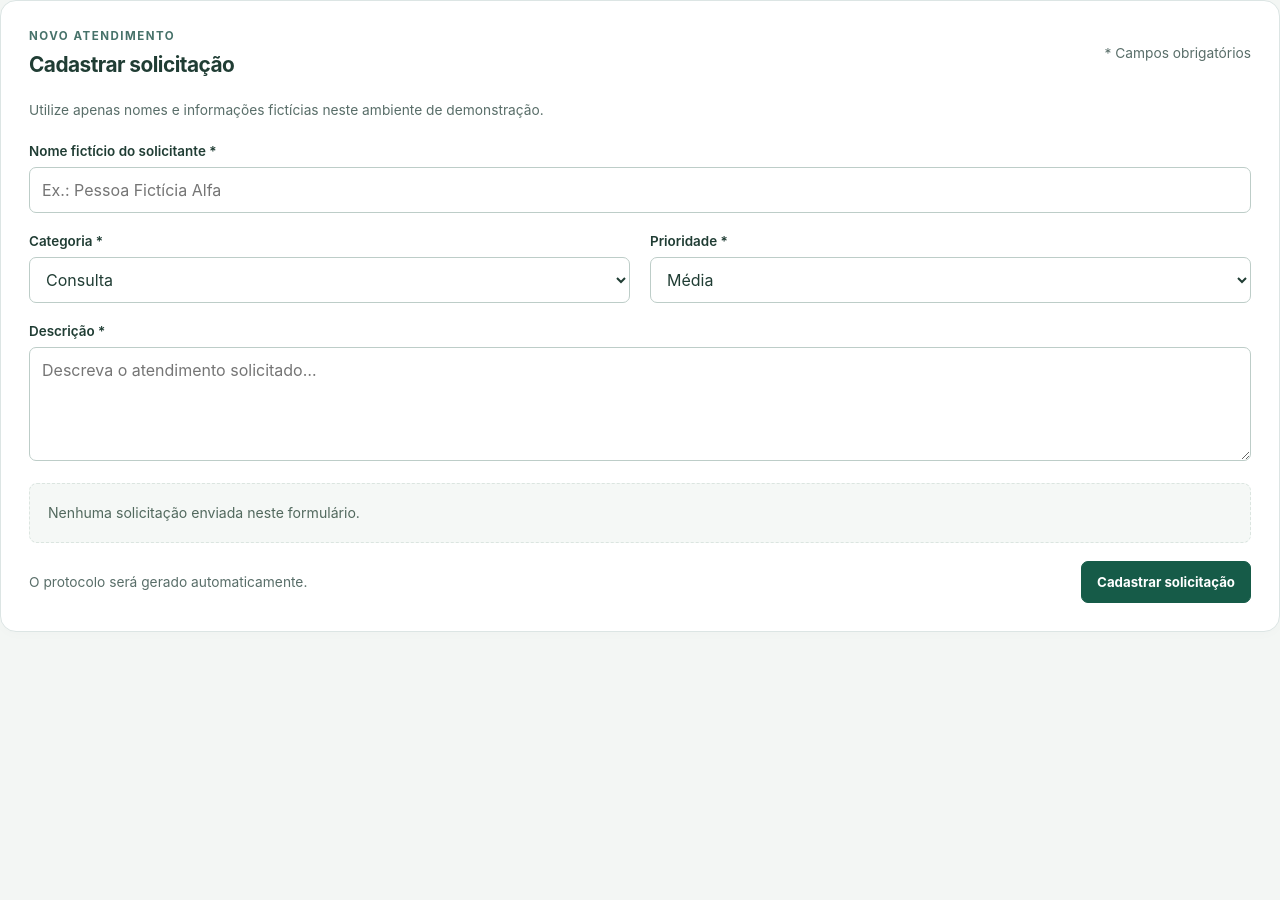
SolicitacaoForm › exibe justificativa apenas para URGENTE e a remove ao selecionar BAIXA
Expected: the field labelled "Justificativa" is not shown
Select "Baixa" in the dropdown labelled "Prioridade *": [950, 280] box [650,257,1251,303]
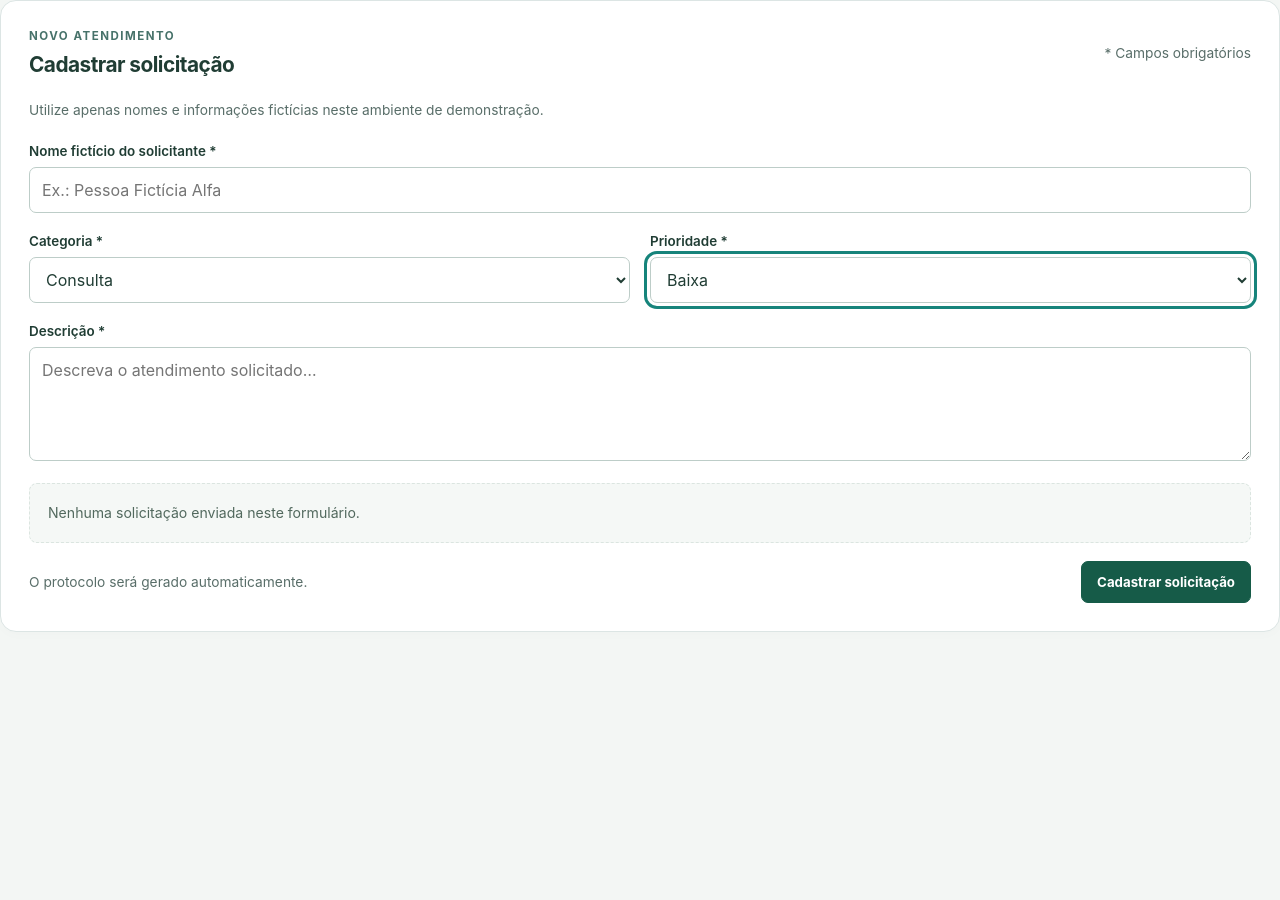
Expected: the field labelled "Justificativa" is not shown
Select "Urgente" in the dropdown labelled "Prioridade *": [950, 280] box [650,257,1251,303]
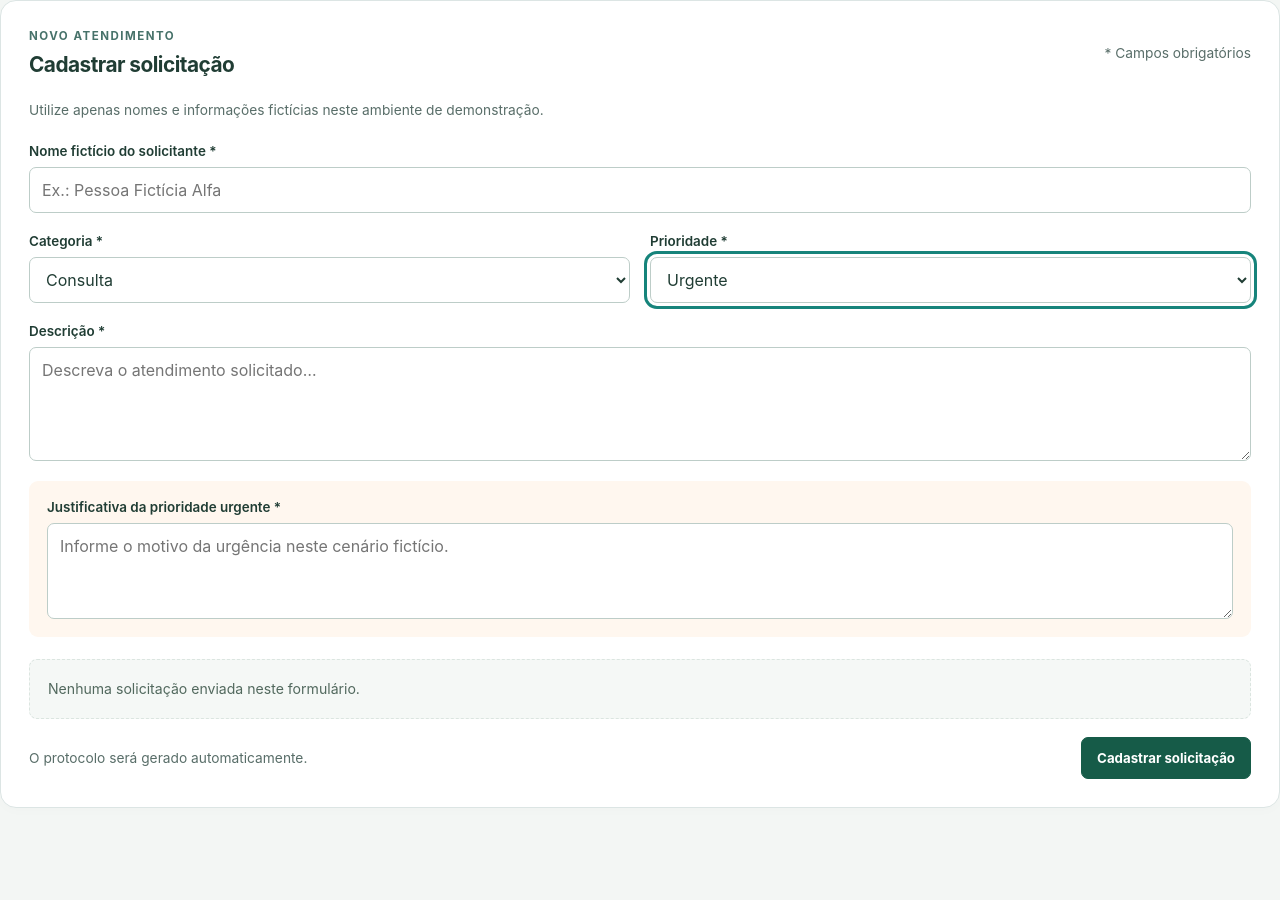
Expected: the text box labelled "Justificativa da prioridade urgente *" is shown, [47,523,1233,619]
Select "Baixa" in the dropdown labelled "Prioridade *": [950, 280] box [650,257,1251,303]
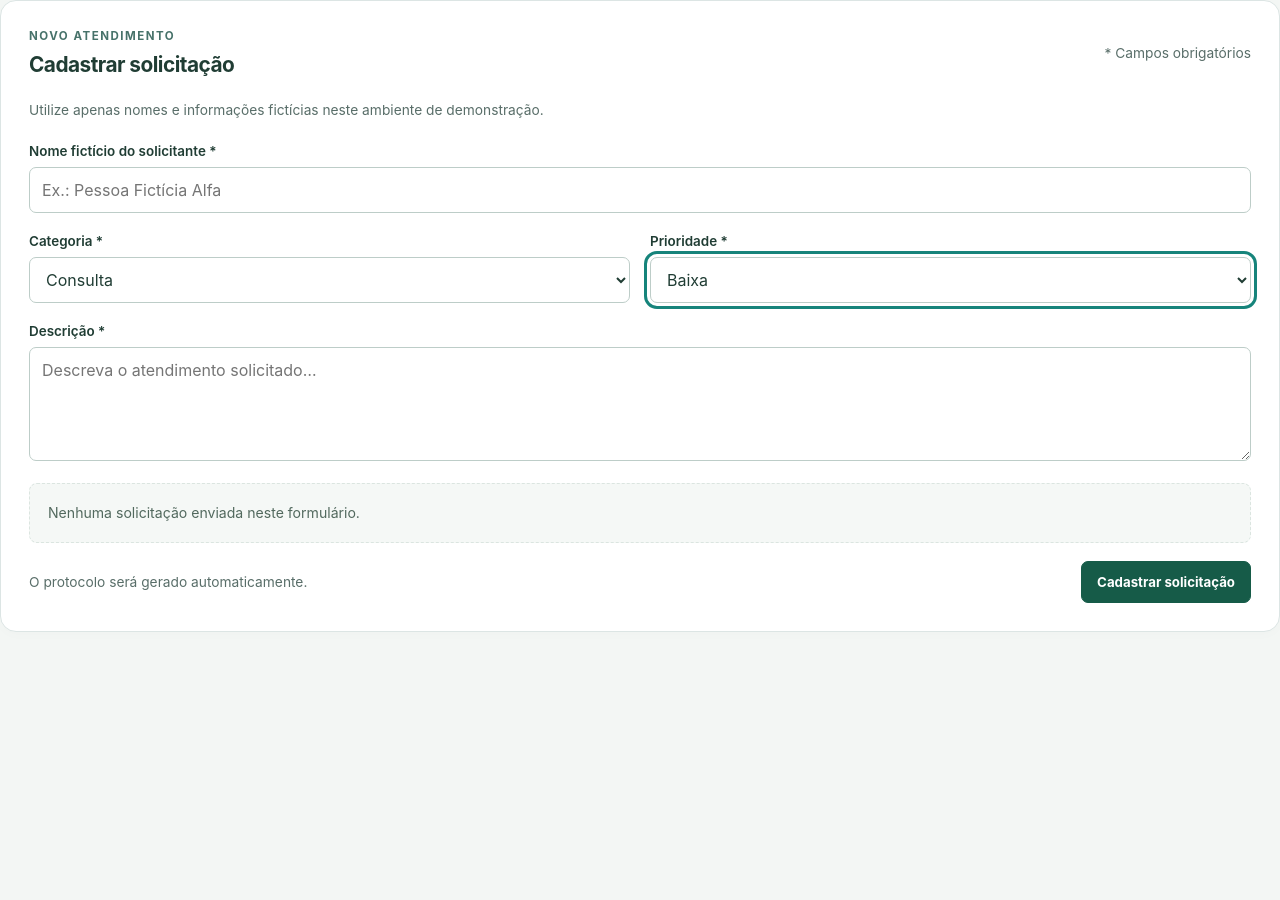
Expected: the label "Justificativa" is gone
